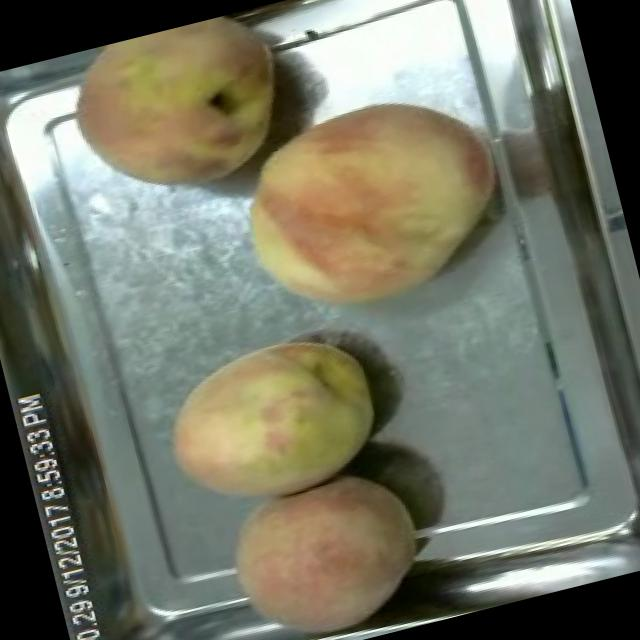Fruit: (214, 66, 526, 340), (50, 2, 312, 220), (144, 312, 401, 523), (206, 453, 443, 640)
